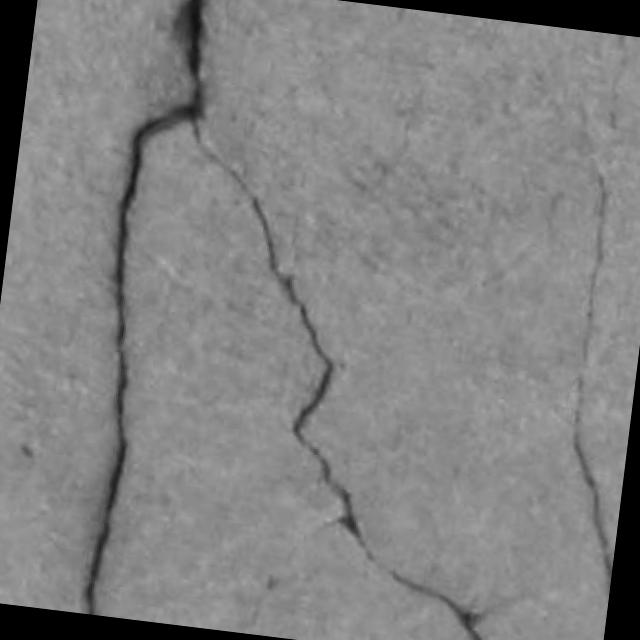crack: (84, 0, 482, 639), (83, 0, 201, 614), (83, 104, 190, 614), (571, 161, 613, 595), (571, 168, 613, 595)
